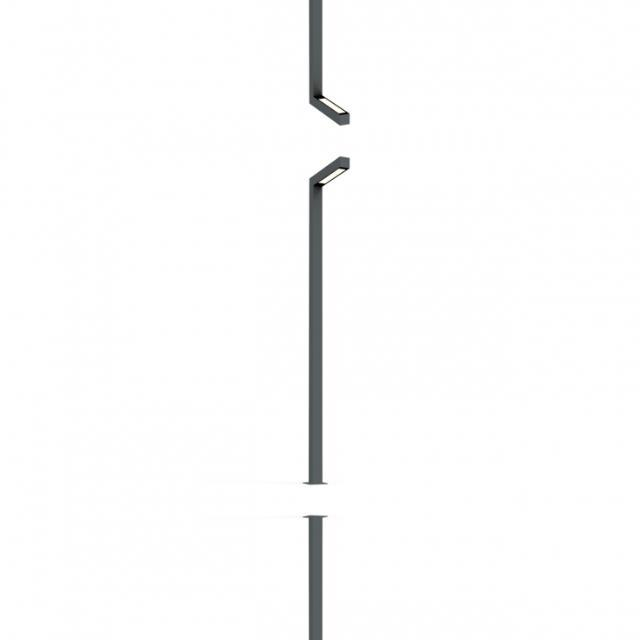obstacle: (298, 150, 358, 487), (298, 0, 357, 130), (298, 513, 357, 640)
